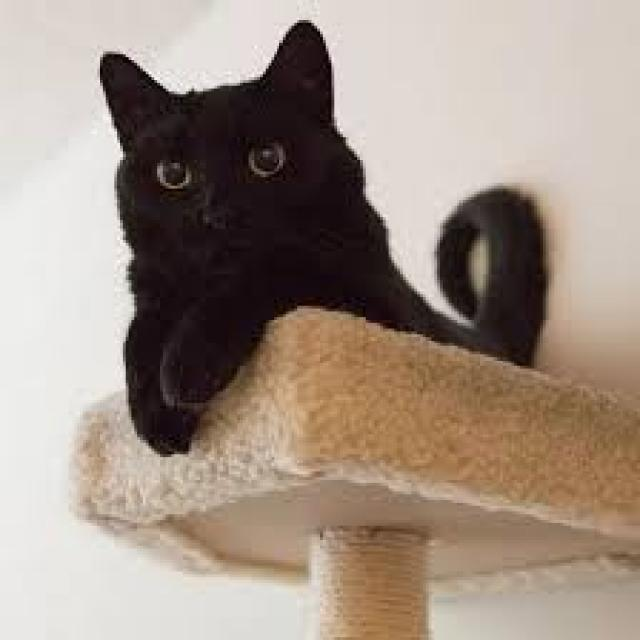black cat: (98, 13, 550, 461)
